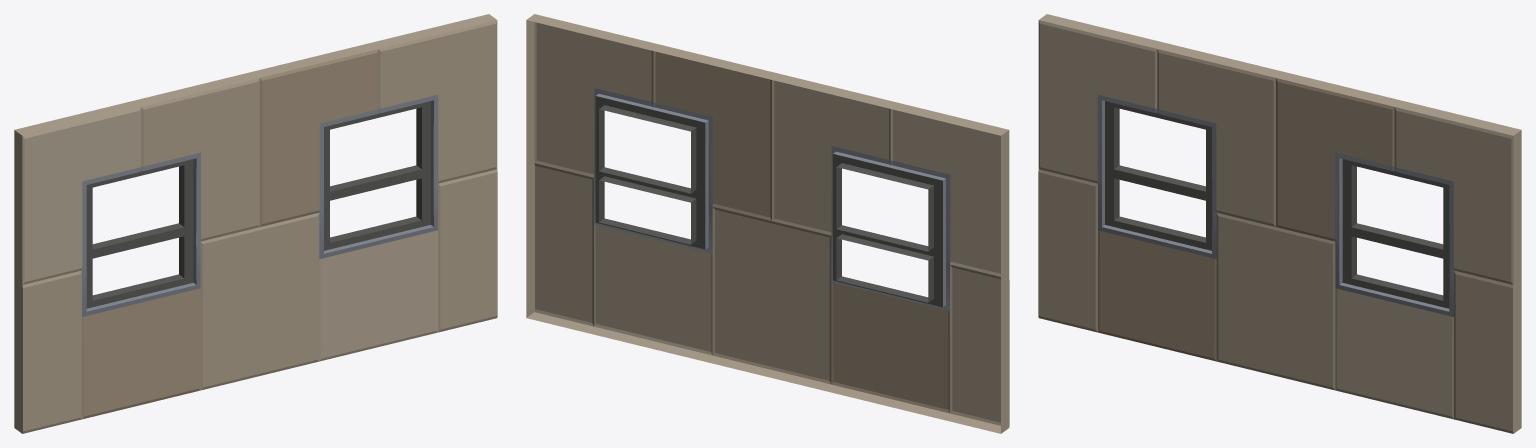
Rendered from Wall_Exterior_Window_01.glb.
The picture shows the model from 3 angles, left to right: view 1: azimuth 30°, elevation 25°; view 2: azimuth 150°, elevation 25°; view 3: azimuth 330°, elevation 25°; orthographic projection.
Visible parts, largest first — view 1: SM_Env_Wall_Exterior_Window_01; view 2: SM_Env_Wall_Exterior_Window_01; view 3: SM_Env_Wall_Exterior_Window_01.
Boxes of the visible parts, left/top/right/bottom form: SM_Env_Wall_Exterior_Window_01: left=14, top=14, right=497, bottom=433; SM_Env_Wall_Exterior_Window_01: left=526, top=14, right=1009, bottom=433; SM_Env_Wall_Exterior_Window_01: left=1038, top=14, right=1521, bottom=433.
Bounding box in the file's own units: 5 × 3 × 0.1578.
Materials: 1 (1 with a texture image).
